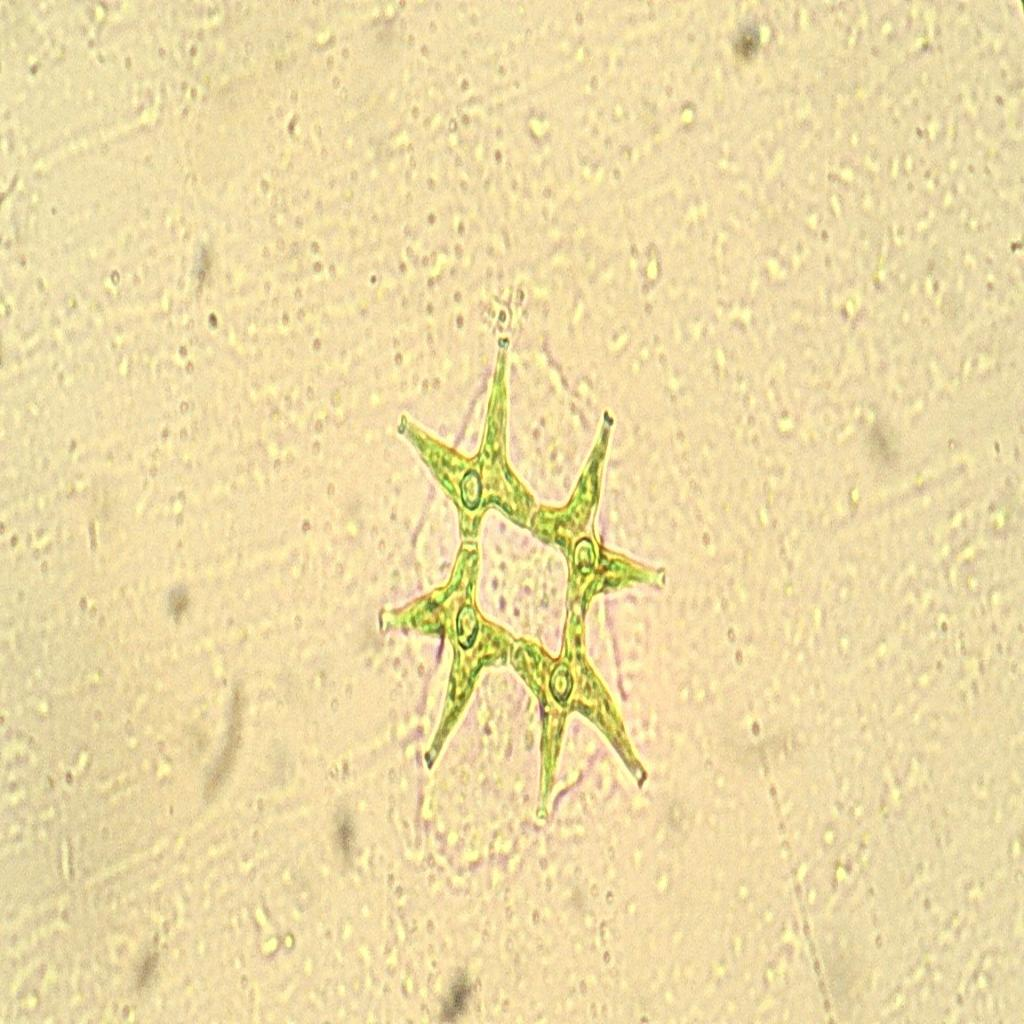Pediastrum_75O: (369, 312, 688, 849)
